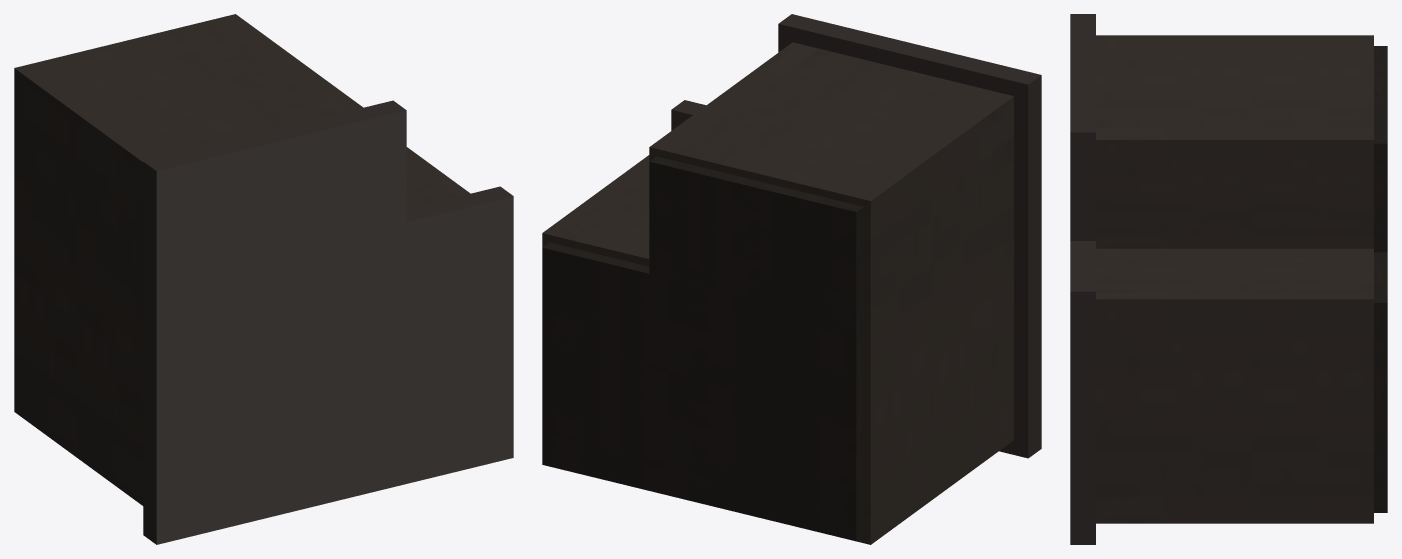
Rendered from pz_g018_bar_dark_corner.obj.
3 views of the same model, side by side, from view 1: azimuth 30°, elevation 25°; view 2: azimuth 150°, elevation 25°; view 3: azimuth 270°, elevation 25° (orthographic). The views are drawn at different scales.
Parts seen in each view (by area): view 1: top, side, trim; view 2: plinth, side, trim; view 3: side, trim, plinth.
Part boxes in pixels (x1,y1,x2,y2): top: [156, 110, 513, 544]; side: [14, 14, 470, 505]; trim: [143, 100, 513, 544]; plinth: [542, 156, 863, 540]; side: [542, 42, 1013, 544]; trim: [671, 14, 1041, 458]; side: [1096, 35, 1373, 523]; trim: [1070, 14, 1095, 544]; plinth: [1374, 46, 1387, 512].
Bounding box in the file's own units: 1 × 1 × 0.795.
Materials: 1 (1 with a texture image).
